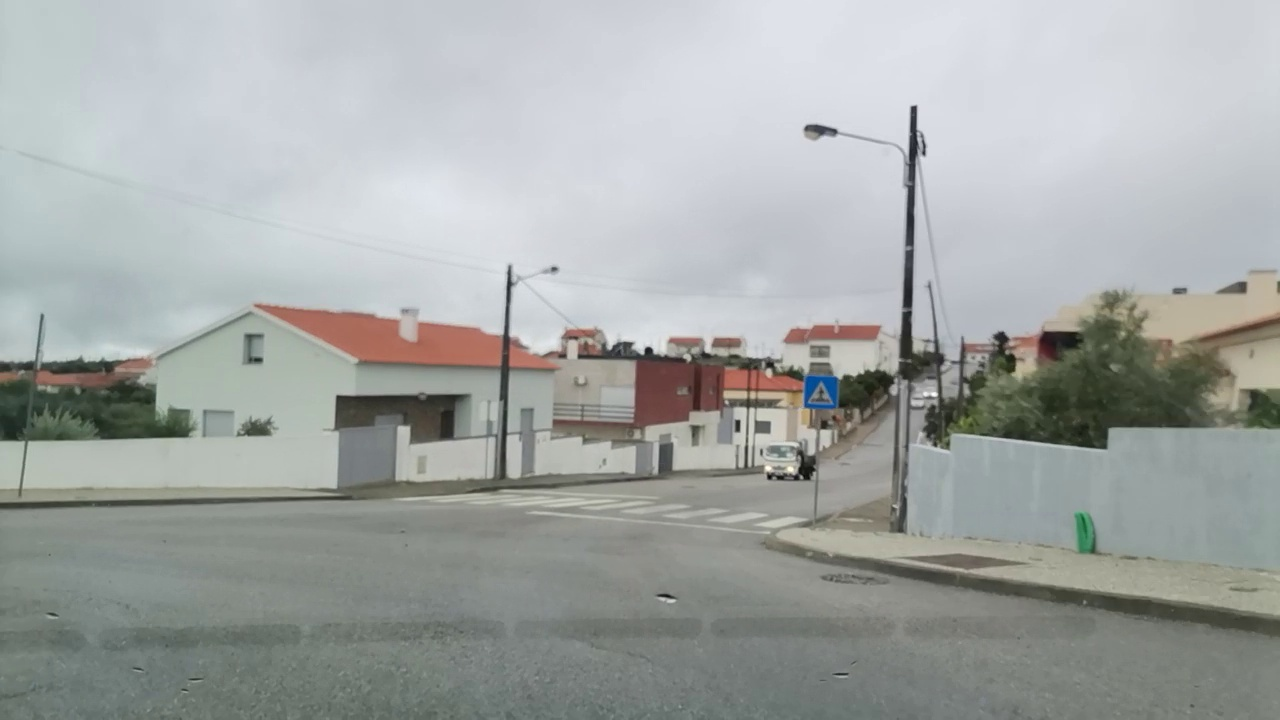Stairs: (403, 488, 804, 532)
